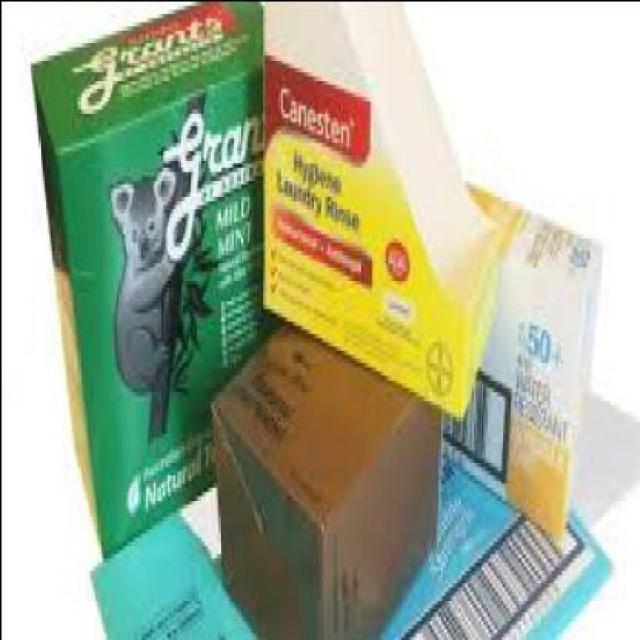CARDBOARD: (25, 1, 273, 548), (257, 2, 491, 416), (207, 319, 438, 636), (439, 175, 596, 536), (366, 432, 608, 636), (88, 507, 252, 636)
